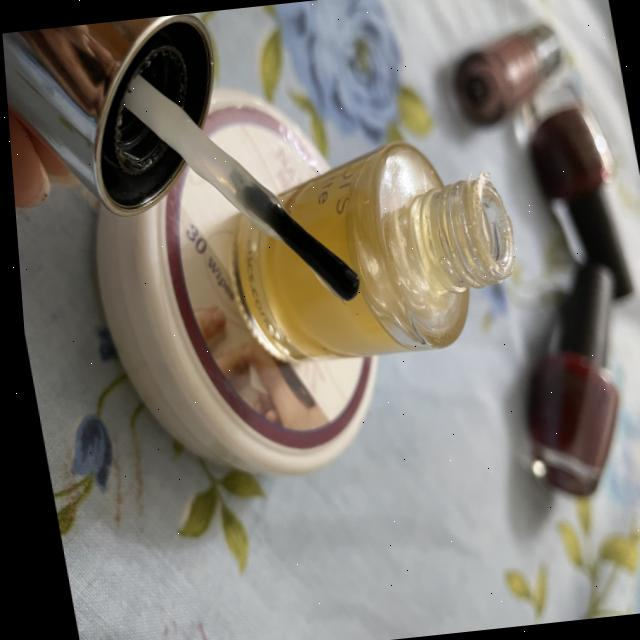nail polish: (0, 0, 401, 379), (199, 124, 552, 388), (474, 262, 640, 506), (517, 101, 640, 312), (430, 0, 584, 128)
